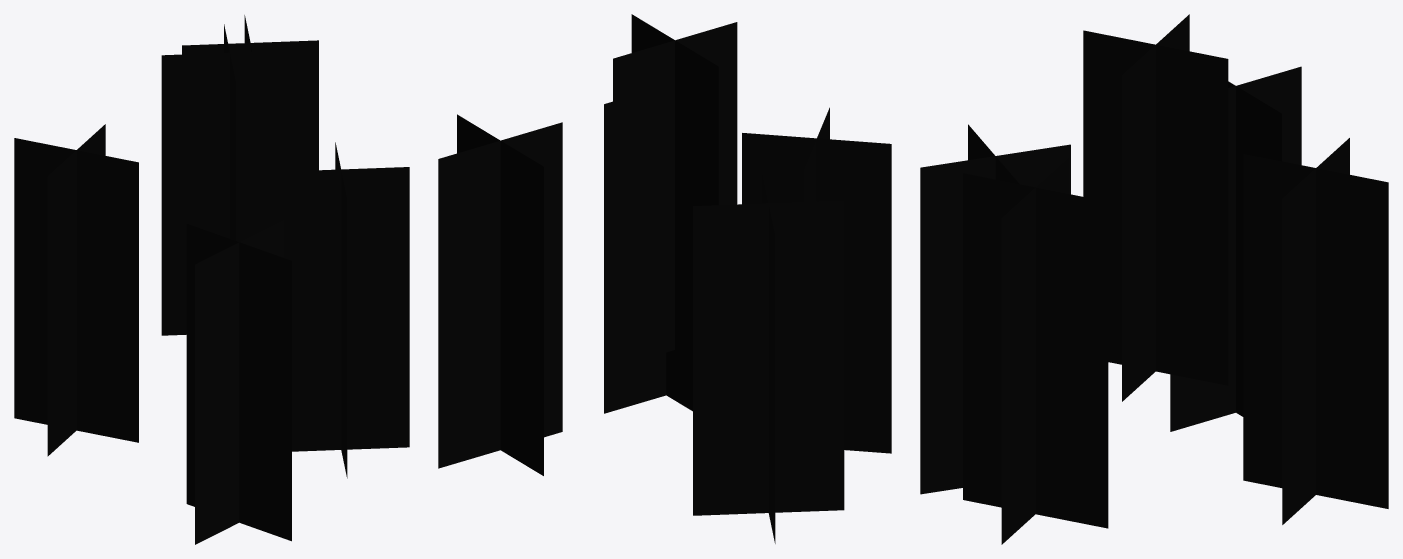
The model's file is sweet_cyan_reed_stage0.obj.
3 renders of one model, left to right at view 1: azimuth 30°, elevation 25°; view 2: azimuth 150°, elevation 25°; view 3: azimuth 270°, elevation 25°, orthographic. The views are drawn at different scales.
Parts seen in each view (by area): view 1: cube_6, cube_2, cube_1, cube_9, cube_8, cube_3, cube_5, cube_7, cube_0; view 2: cube_3, cube_4, cube_0, cube_8, cube_5, cube_1, cube_7, cube_2, cube_6, cube_9; view 3: cube_7, cube_4, cube_0, cube_9, cube_6, cube_1, cube_5, cube_2, cube_3, cube_8.
Boxes of the visible parts, box(x1,y1,x2,y2) form: cube_6: box(272, 167, 409, 451); cube_2: box(14, 138, 138, 442); cube_1: box(161, 50, 298, 335); cube_9: box(186, 224, 291, 541); cube_8: box(195, 220, 283, 544); cube_3: box(47, 124, 105, 456); cube_5: box(182, 40, 318, 170); cube_7: box(335, 142, 347, 478); cube_0: box(224, 24, 235, 240); cube_3: box(693, 200, 844, 515); cube_4: box(438, 122, 562, 468); cube_0: box(613, 22, 737, 368); cube_8: box(742, 133, 891, 453); cube_5: box(457, 114, 543, 475); cube_1: box(631, 14, 718, 360); cube_7: box(604, 101, 666, 413); cube_2: box(762, 172, 775, 543); cube_6: box(666, 350, 692, 411); cube_9: box(803, 107, 829, 201); cube_7: box(963, 173, 1108, 528); cube_4: box(1243, 154, 1388, 508); cube_0: box(1083, 30, 1228, 385); cube_9: box(920, 144, 1070, 494); cube_6: box(1001, 157, 1069, 544); cube_1: box(1122, 14, 1189, 401); cube_5: box(1282, 138, 1349, 524); cube_2: box(1170, 66, 1301, 431); cube_3: box(1228, 81, 1281, 416); cube_8: box(968, 124, 1019, 184).
Bounding box in the file's own units: 0.6532 × 0.8125 × 0.7308.
